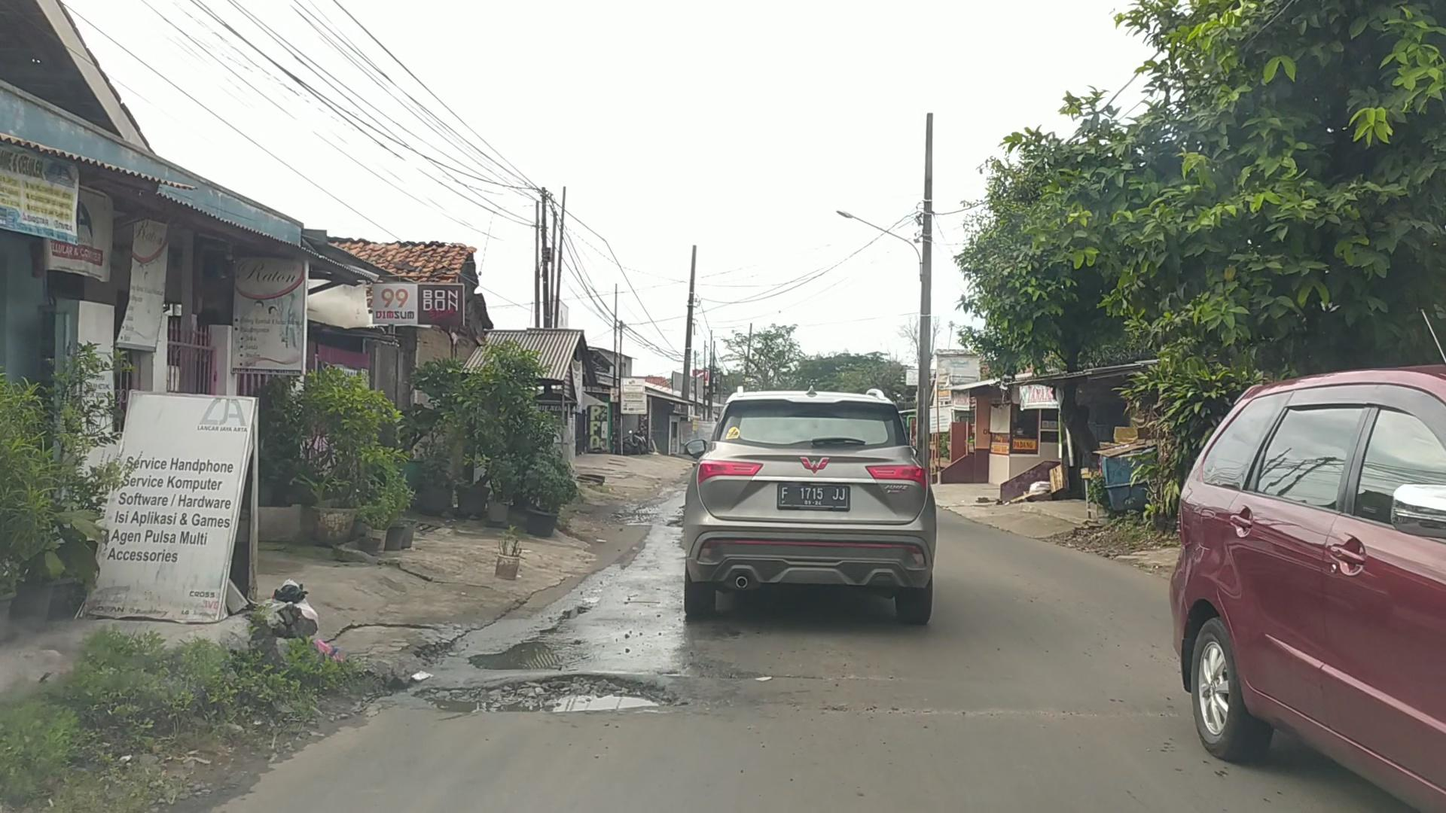pothole: (412, 671, 676, 714), (460, 602, 592, 670)
